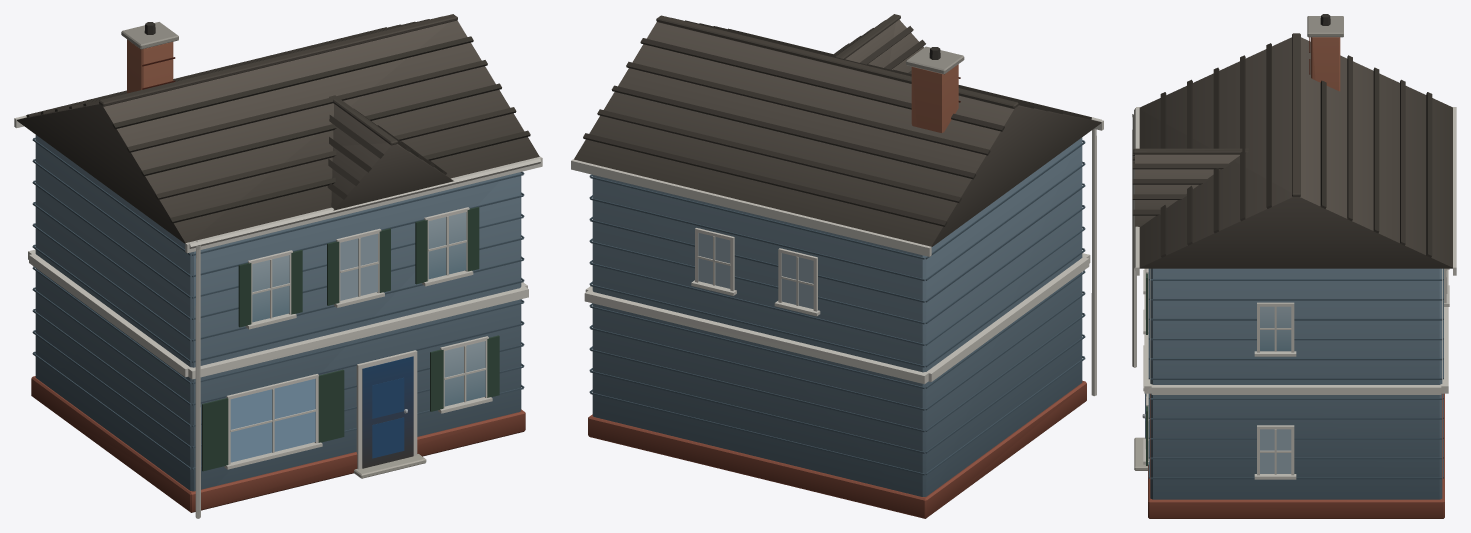
Rendered from two_story_house.glb.
3 renders of one model, left to right at view 1: azimuth 30°, elevation 25°; view 2: azimuth 150°, elevation 25°; view 3: azimuth 270°, elevation 25°, orthographic. The views are drawn at different scales.
Visible parts, largest first — view 1: two_story_house; view 2: two_story_house; view 3: two_story_house.
Boxes of the visible parts, x1,y1,x2,y2 form: two_story_house: (14, 14, 542, 518); two_story_house: (571, 14, 1103, 518); two_story_house: (1132, 14, 1456, 518).
Bounding box in the file's own units: 7.36 × 7.99 × 6.23.
